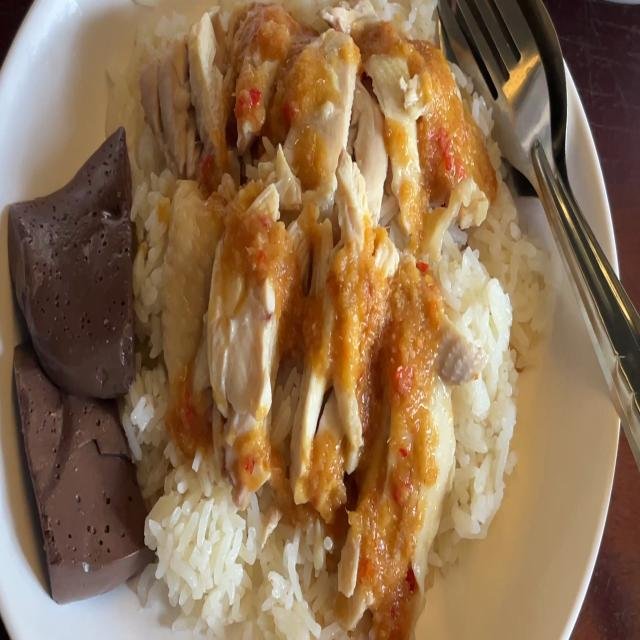boiled_chicken: (148, 58, 459, 514)
boiled_chicken_blood_jelly: (12, 336, 145, 590), (10, 134, 134, 404)
chicken_rice: (0, 0, 547, 640)
